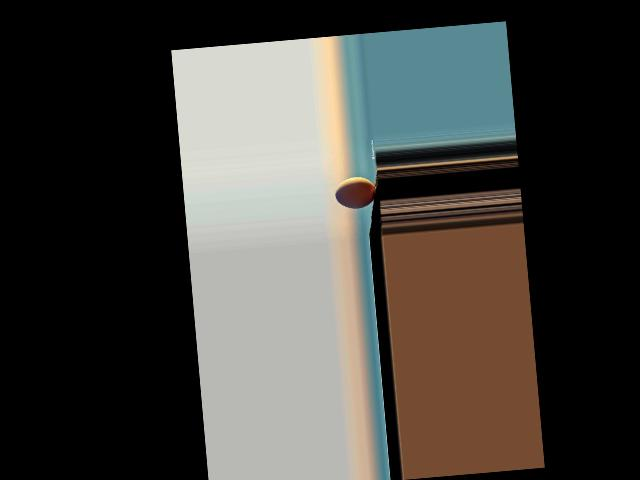egg: (333, 175, 376, 210)
